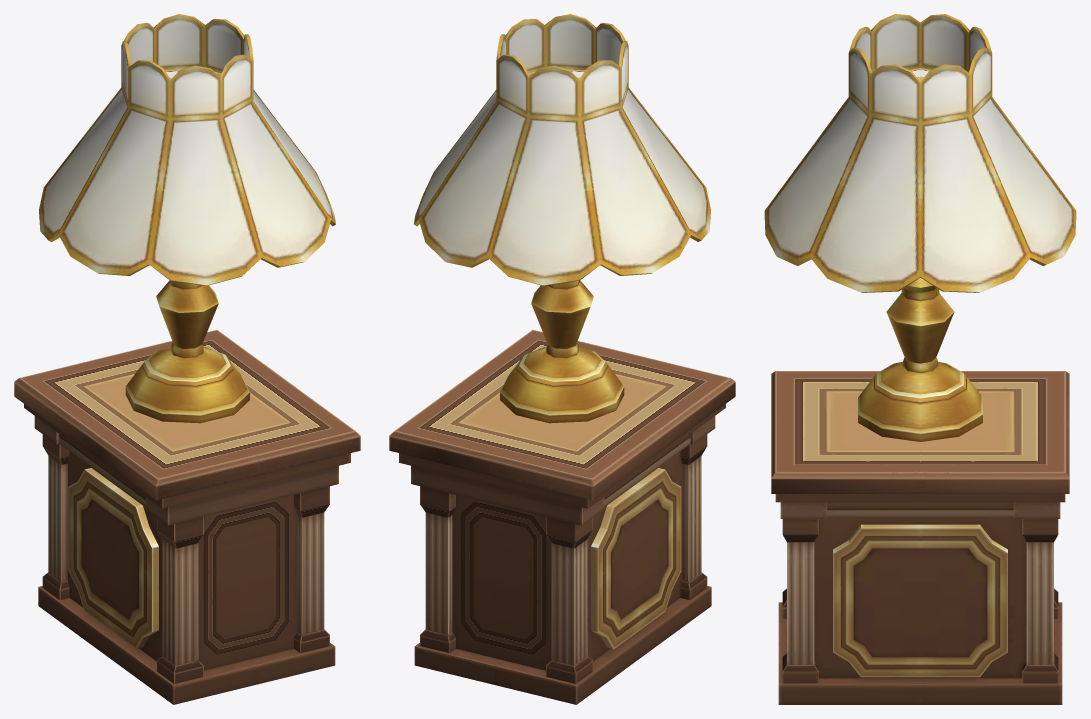
Rendered from my_trinityclassroom_01_table_02.glb.
3 views of the same model, side by side, from view 1: azimuth 30°, elevation 25°; view 2: azimuth 150°, elevation 25°; view 3: azimuth 270°, elevation 25° (orthographic). The views are drawn at different scales.
Visible parts, largest first — view 1: my_trinityclassroom_01_table_02; view 2: my_trinityclassroom_01_table_02; view 3: my_trinityclassroom_01_table_02.
Part boxes in pixels (left/top/right/bottom): my_trinityclassroom_01_table_02: left=14, top=14, right=360, bottom=704; my_trinityclassroom_01_table_02: left=389, top=14, right=735, bottom=704; my_trinityclassroom_01_table_02: left=764, top=14, right=1076, bottom=704.
Size of the model in its own units: 0.00323 by 0.00712 by 0.00323.
2 materials, 2 textured.
